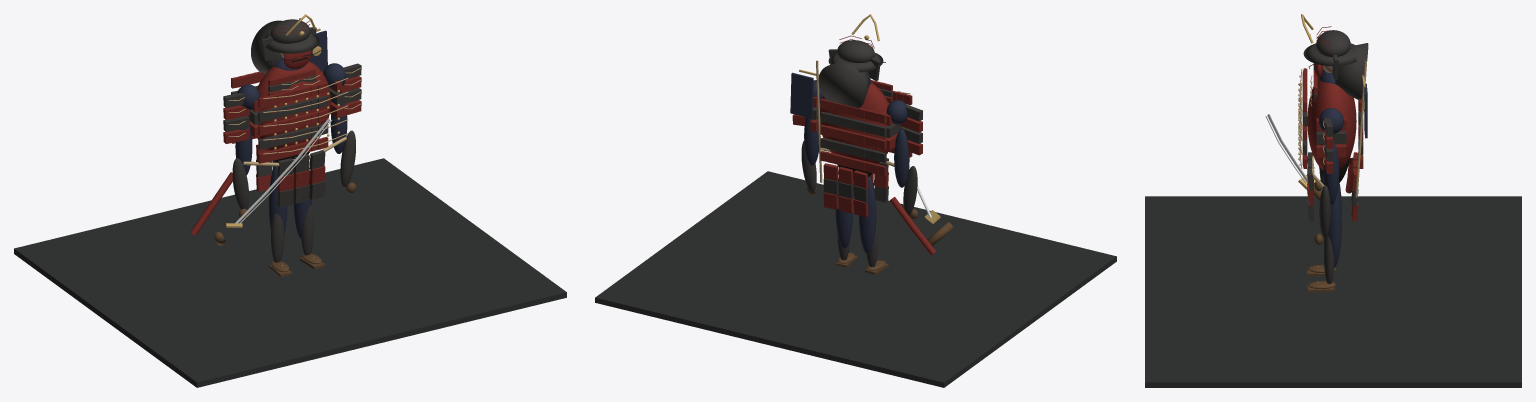
The model's file is actor-takeda-00.glb.
3 views of the same model, side by side, from view 1: azimuth 30°, elevation 25°; view 2: azimuth 150°, elevation 25°; view 3: azimuth 270°, elevation 25° (orthographic). The views are drawn at different scales.
Visible parts, largest first — view 1: matte charcoal inspection plinth, rounded do cuirass silhouette, rear shikoro neck guard flare, segmented kabuto helmet bowl, right kote forearm guard, left kote forearm guard, wide kabuto brim, left shin greave, left hakama trouser leg, lacquered saya scabbard at left hip, right shin greave, right armored upper arm; view 2: matte charcoal inspection plinth, rear shikoro neck guard flare, rounded do cuirass silhouette, cloth sashimono banner panel, left hakama trouser leg, left armored upper arm, segmented kabuto helmet bowl, right hakama trouser leg, right armored upper arm, left kote forearm guard, lacquered saya scabbard at left hip; view 3: matte charcoal inspection plinth, rounded do cuirass silhouette, rear shikoro neck guard flare, segmented kabuto helmet bowl, right hakama trouser leg, wide kabuto brim, right armored upper arm, right kote forearm guard, right shin greave, right shoulder undercloth, bamboo sashimono back pole.
Boxes of the visible parts, <box> form: matte charcoal inspection plinth: <box>14,158,566,387</box>; rounded do cuirass silhouette: <box>257,61,330,150</box>; rear shikoro neck guard flare: <box>251,20,282,74</box>; segmented kabuto helmet bowl: <box>270,19,310,43</box>; right kote forearm guard: <box>340,130,355,186</box>; left kote forearm guard: <box>232,158,248,209</box>; wide kabuto brim: <box>261,33,319,53</box>; left shin greave: <box>271,213,284,262</box>; left hakama trouser leg: <box>269,166,287,234</box>; lacquered saya scabbard at left hip: <box>190,172,232,235</box>; right shin greave: <box>301,205,314,255</box>; right armored upper arm: <box>330,104,347,153</box>; matte charcoal inspection plinth: <box>595,171,1116,387</box>; rear shikoro neck guard flare: <box>818,61,870,108</box>; rounded do cuirass silhouette: <box>820,82,888,163</box>; cloth sashimono banner panel: <box>790,72,813,118</box>; left hakama trouser leg: <box>859,176,876,253</box>; left armored upper arm: <box>894,129,909,187</box>; segmented kabuto helmet bowl: <box>837,40,874,62</box>; right hakama trouser leg: <box>835,180,852,248</box>; right armored upper arm: <box>804,117,818,165</box>; left kote forearm guard: <box>903,166,917,215</box>; lacquered saya scabbard at left hip: <box>889,197,935,254</box>; matte charcoal inspection plinth: <box>1145,196,1521,387</box>; rounded do cuirass silhouette: <box>1307,78,1356,170</box>; rear shikoro neck guard flare: <box>1335,43,1368,99</box>; segmented kabuto helmet bowl: <box>1316,30,1350,56</box>; right hakama trouser leg: <box>1328,189,1341,267</box>; wide kabuto brim: <box>1303,43,1356,66</box>; right armored upper arm: <box>1323,142,1339,204</box>; right kote forearm guard: <box>1319,185,1330,238</box>; right shin greave: <box>1324,235,1334,283</box>; right shoulder undercloth: <box>1319,108,1343,134</box>; bamboo sashimono back pole: <box>1355,60,1366,197</box>.
Bounding box in the file's own units: 4.2 × 2.96 × 3.6.
